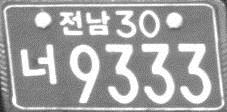0: (138, 9, 160, 38)
3: (103, 42, 139, 104), (176, 42, 212, 103), (140, 42, 175, 104), (114, 9, 137, 39)
9: (68, 43, 100, 104)
너: (19, 42, 57, 85)
전남_O: (58, 9, 111, 36)
